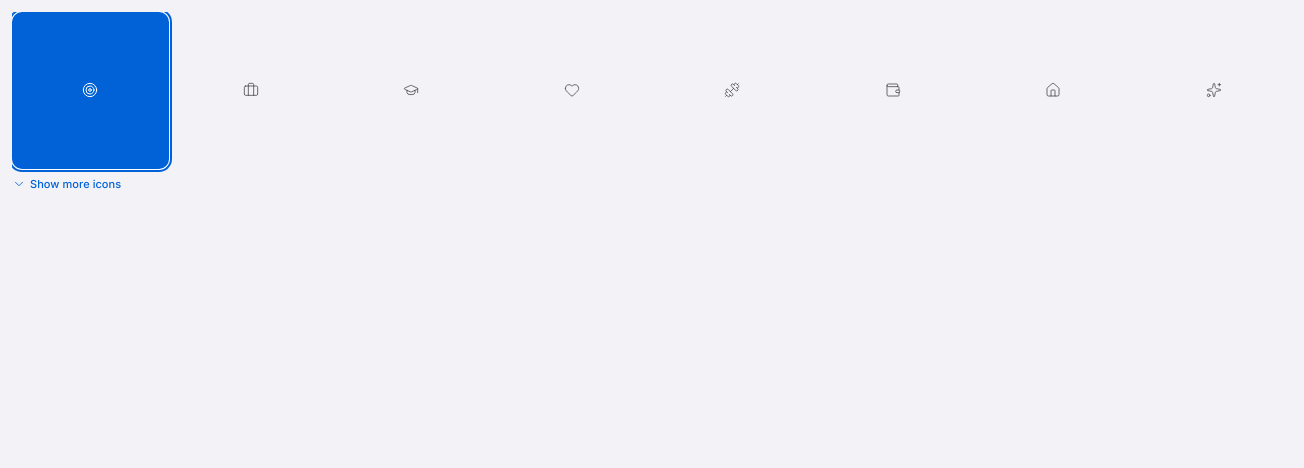
Test: icon picker › announces the expanded state for assistive technology
Click the button "Show more icons" at (67, 184), box [12,176,121,190]
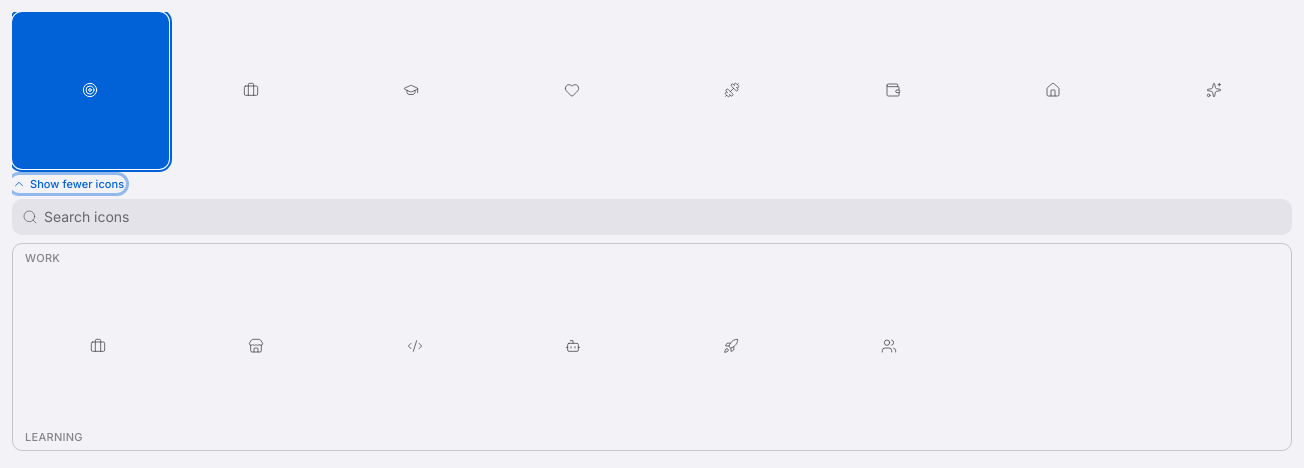
Expected: the button "Show fewer icons" is expanded, [12,176,124,190]
